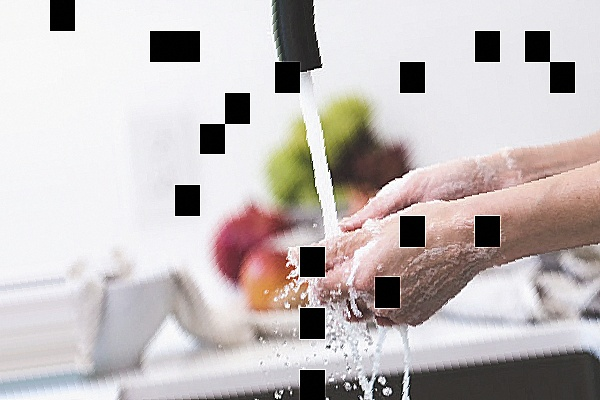washing hand: (146, 0, 589, 366)
